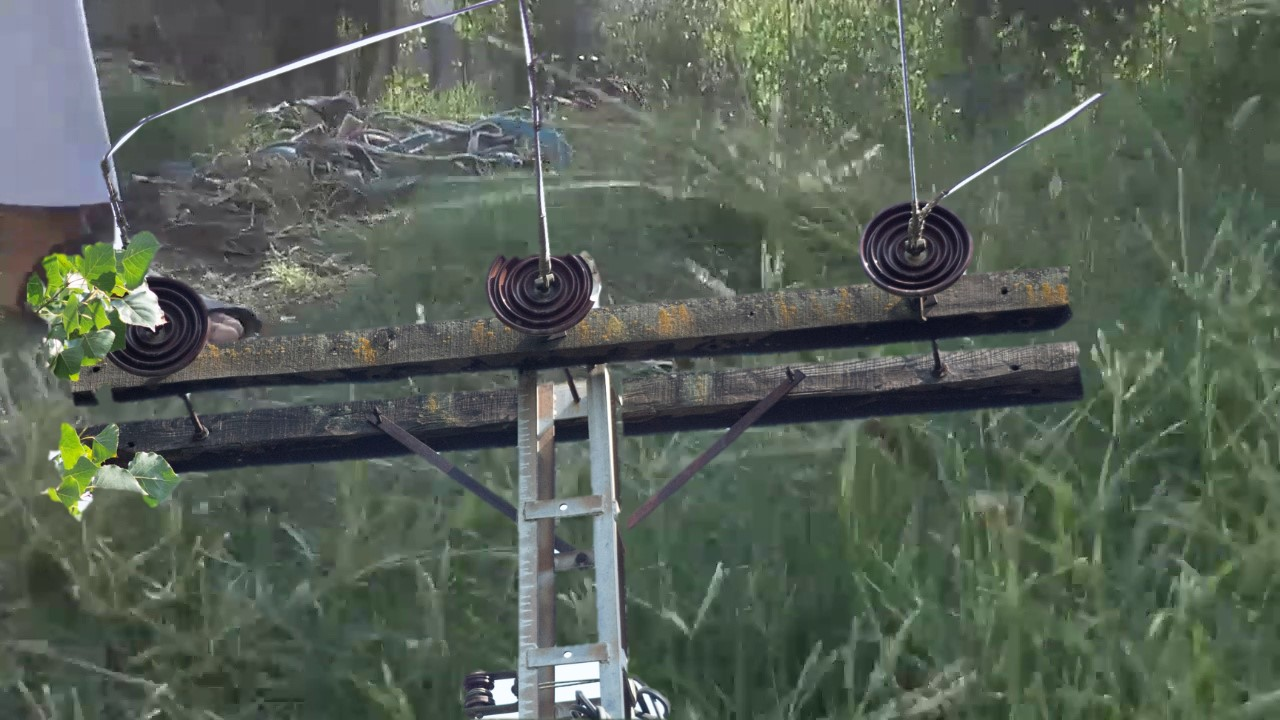defect_disc: (482, 246, 606, 345)
insulator_disc: (857, 196, 978, 299), (146, 271, 212, 378)
